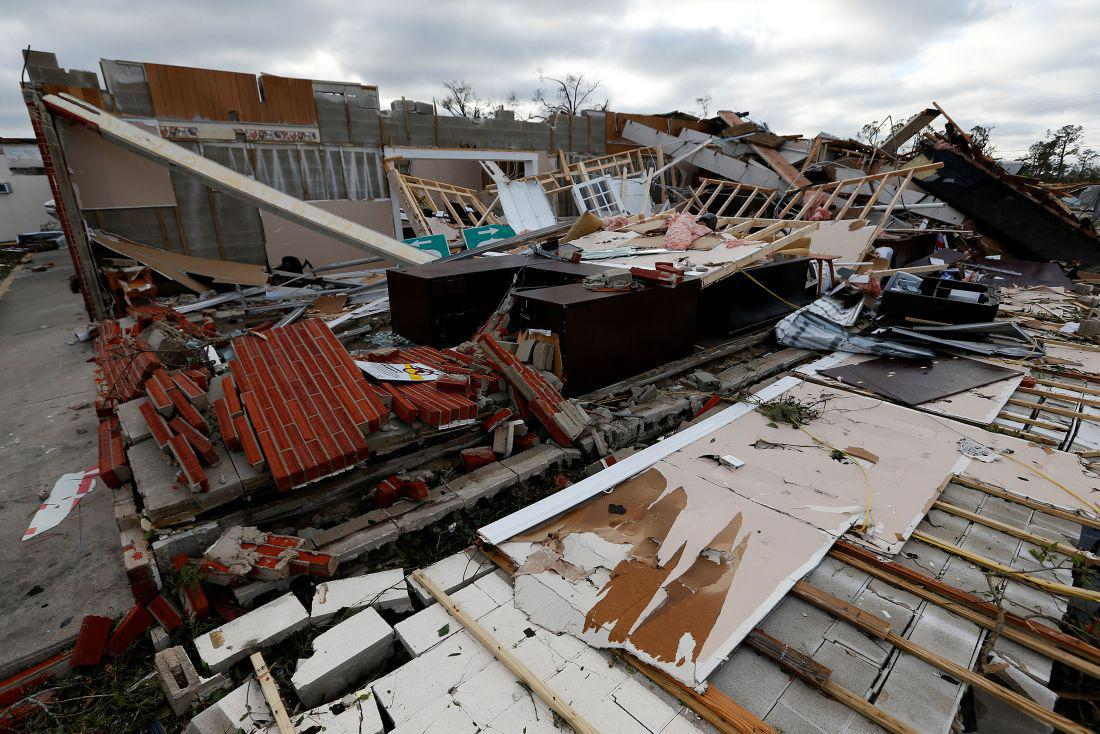destroyed: (11, 40, 1100, 709)
